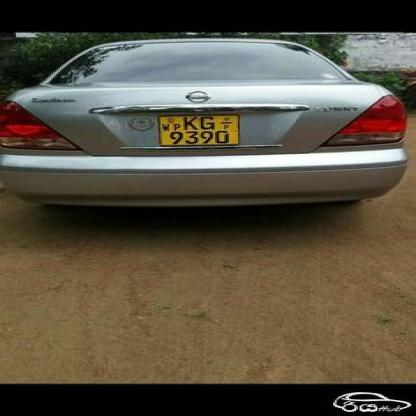car back: (3, 33, 411, 213)
number plate: (157, 110, 235, 148)
